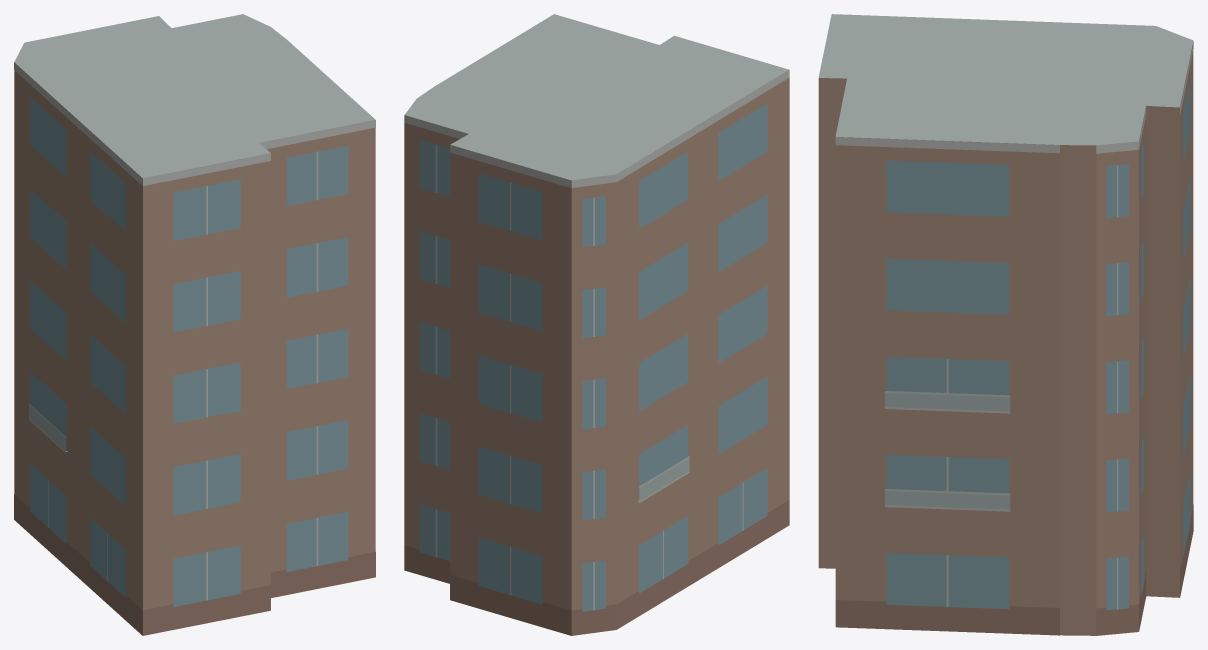
Rendered from survey-upis-32503348.glb.
The picture shows the model from 3 angles, left to right: view 1: azimuth 30°, elevation 25°; view 2: azimuth 150°, elevation 25°; view 3: azimuth 270°, elevation 25°; orthographic projection. The views are drawn at different scales.
Visible parts, largest first — view 1: survey-upis-32503348.tmp; view 2: survey-upis-32503348.tmp; view 3: survey-upis-32503348.tmp.
Part boxes in pixels (<box>): survey-upis-32503348.tmp: <box>14,14,375,635</box>; survey-upis-32503348.tmp: <box>404,14,789,635</box>; survey-upis-32503348.tmp: <box>818,14,1193,635</box>.
Bounding box in the file's own units: 8.26 × 14.35 × 9.95.
